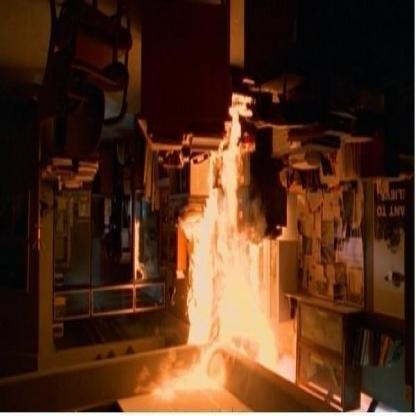fire: (180, 115, 280, 385)
